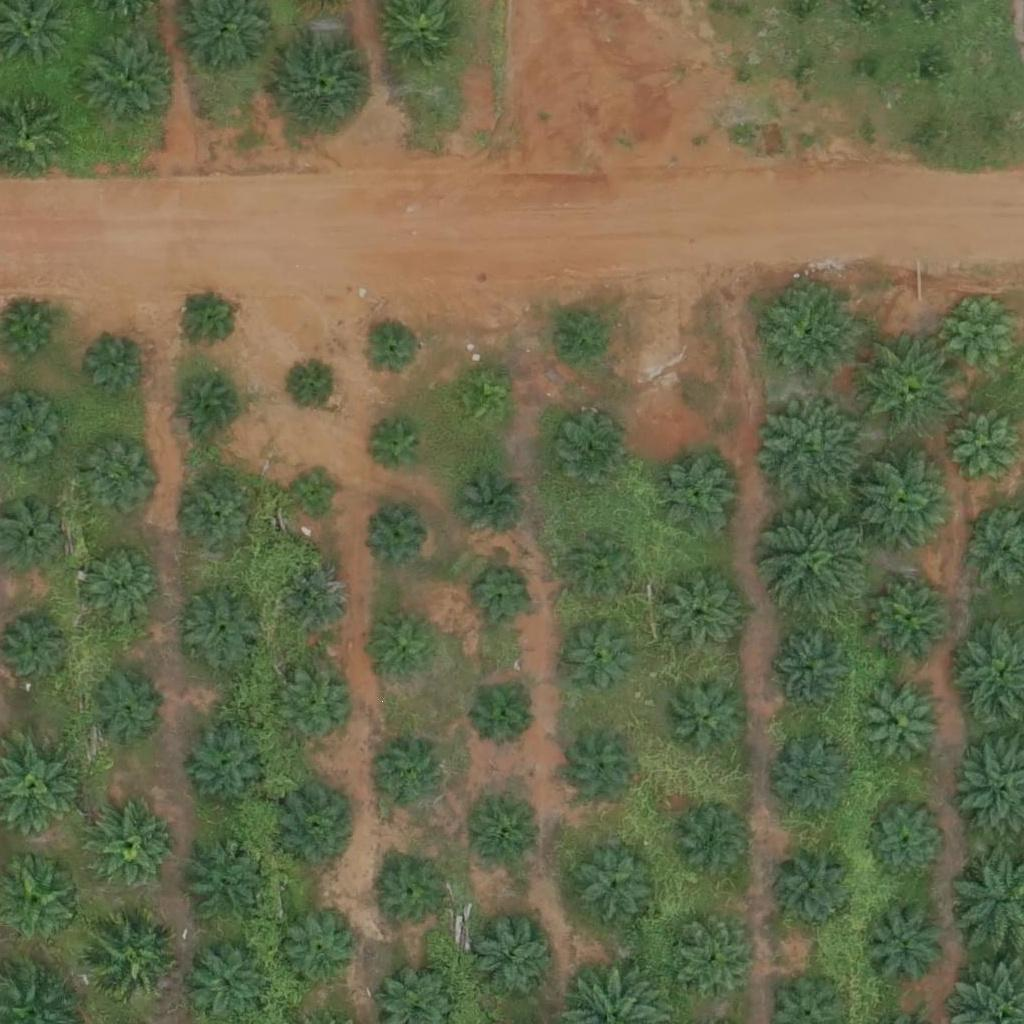Kelapa_Sawit: (759, 396, 872, 510), (765, 503, 878, 617), (77, 25, 177, 126), (276, 31, 376, 132), (760, 283, 860, 384), (858, 334, 958, 435), (858, 454, 958, 554), (82, 912, 182, 1012), (575, 843, 663, 932), (179, 583, 267, 671), (274, 783, 362, 871), (183, 723, 271, 811), (671, 915, 759, 1003), (466, 913, 553, 1002), (860, 904, 947, 992), (866, 798, 953, 886), (775, 843, 862, 931), (88, 804, 175, 892), (183, 842, 270, 930), (83, 545, 158, 621), (87, 668, 162, 744), (566, 526, 641, 602), (550, 416, 625, 492), (664, 577, 739, 653), (659, 457, 734, 533), (779, 630, 854, 706), (777, 744, 852, 820), (871, 583, 946, 659), (866, 687, 941, 763), (84, 438, 159, 513), (182, 482, 257, 557), (948, 409, 1023, 484), (376, 858, 451, 933), (364, 742, 439, 817), (565, 733, 640, 808), (670, 805, 745, 880), (672, 677, 747, 752), (566, 617, 641, 692), (274, 668, 349, 743), (281, 567, 356, 642), (453, 472, 528, 547), (467, 562, 542, 637), (465, 676, 540, 751), (468, 800, 543, 875), (282, 916, 357, 991), (176, 286, 239, 349), (177, 375, 240, 438), (374, 615, 437, 678), (451, 370, 514, 433), (543, 308, 606, 371), (86, 335, 148, 398), (361, 317, 423, 380), (365, 417, 427, 480), (365, 504, 427, 567), (291, 361, 341, 412), (290, 467, 340, 518)
